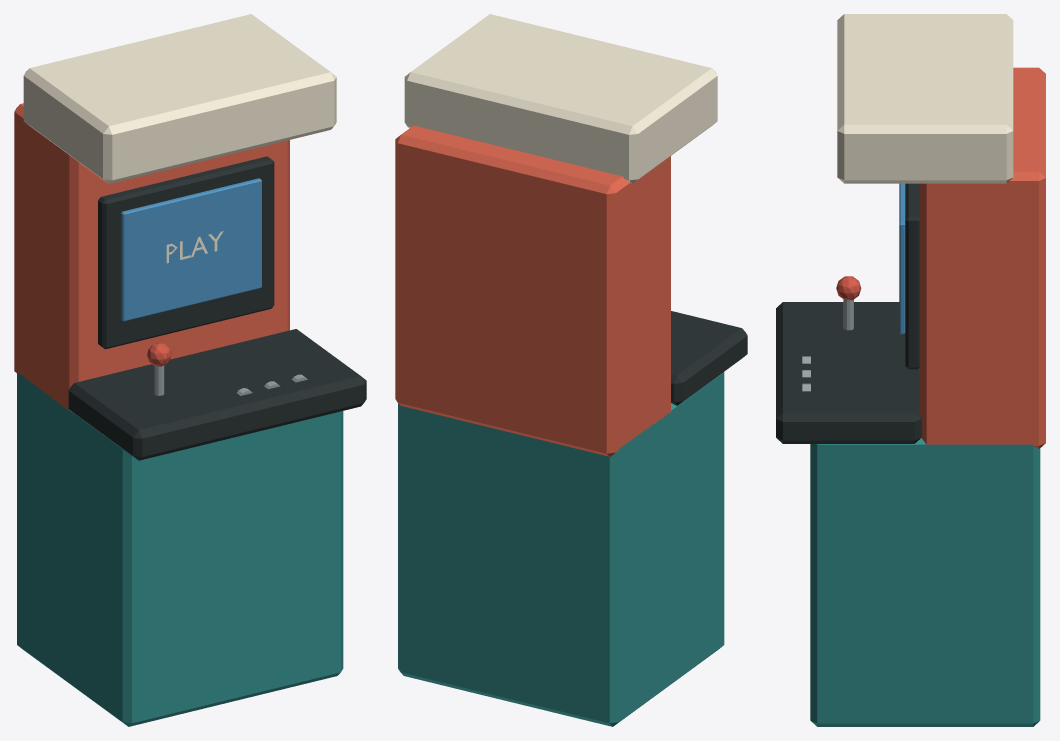
The model's file is Arcade_Cabinet.glb.
3 renders of one model, left to right at view 1: azimuth 30°, elevation 25°; view 2: azimuth 150°, elevation 25°; view 3: azimuth 270°, elevation 25°, orthographic. The views are drawn at different scales.
Visible parts, largest first — view 1: Arcade_Cabinet; view 2: Arcade_Cabinet; view 3: Arcade_Cabinet.
Boxes of the visible parts, <box> form: Arcade_Cabinet: <box>14,14,366,726</box>; Arcade_Cabinet: <box>395,14,747,726</box>; Arcade_Cabinet: <box>776,14,1045,726</box>.
Bounding box in the file's own units: 0.72 × 1.75 × 0.705.
